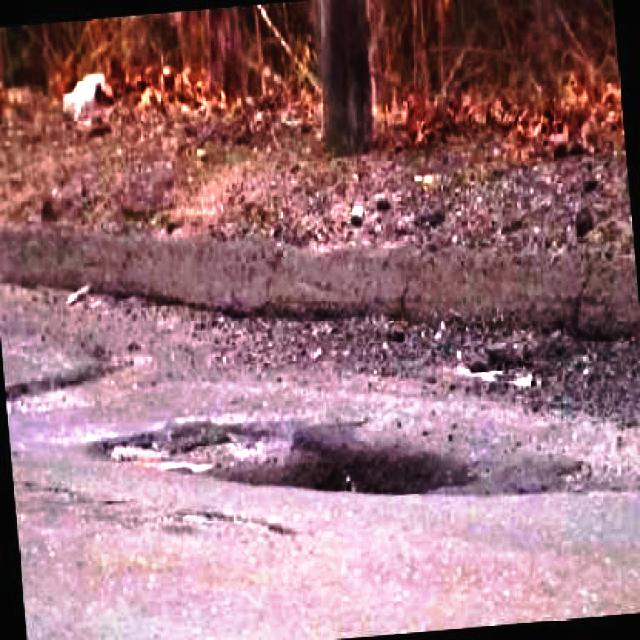pothole: (103, 428, 617, 500), (6, 354, 165, 411)
